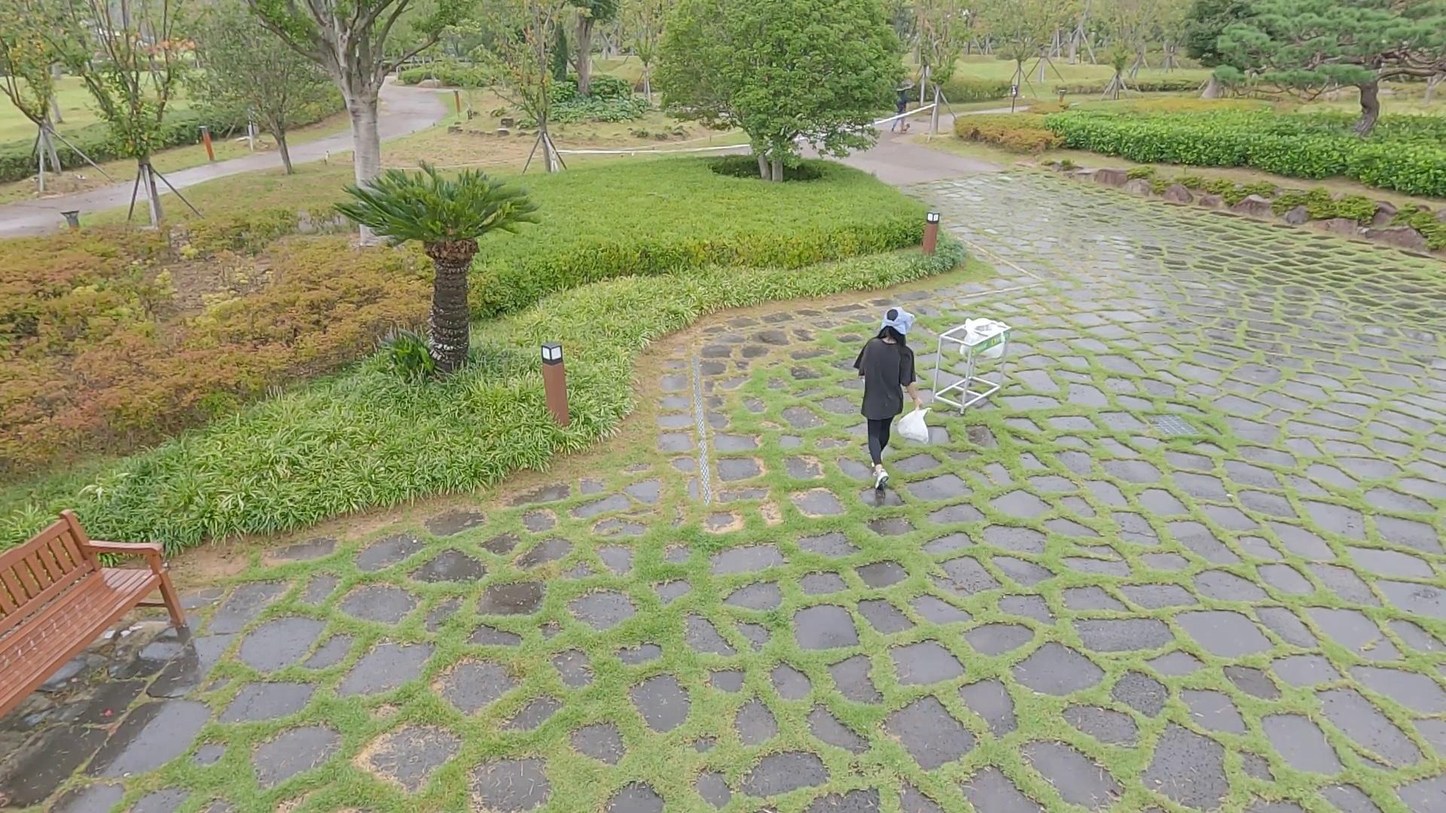person: (850, 307, 926, 495)
trash: (893, 404, 931, 447)
